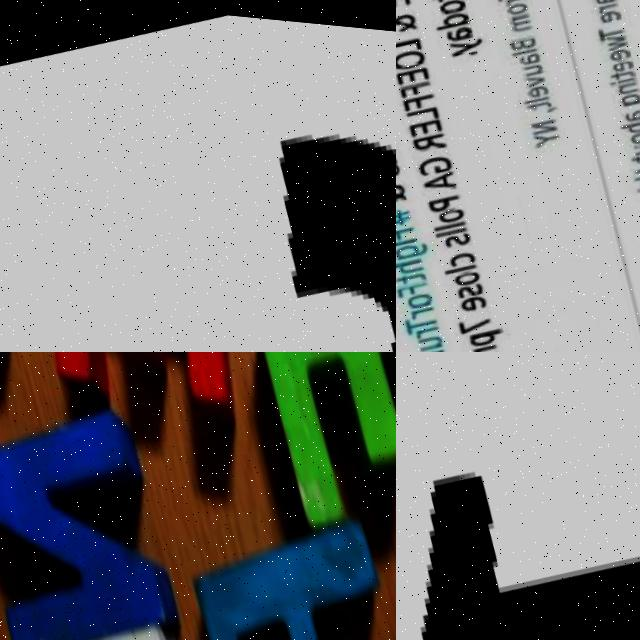1: (396, 352, 640, 640)
7: (465, 303, 500, 328)
A: (427, 159, 463, 188), (447, 13, 479, 38), (520, 39, 545, 57), (627, 95, 640, 111)
B: (512, 24, 539, 43), (624, 106, 640, 124)
C: (451, 239, 486, 262)
D: (435, 0, 474, 24)
E: (0, 352, 280, 473), (411, 107, 450, 134), (398, 55, 435, 82), (466, 282, 496, 306), (529, 72, 554, 90), (610, 34, 635, 52), (615, 44, 637, 62), (602, 0, 624, 13)
F: (231, 352, 396, 534), (406, 82, 441, 106), (403, 70, 438, 93), (401, 270, 436, 292), (396, 216, 423, 238)
G: (420, 141, 461, 171), (398, 230, 437, 257), (622, 77, 640, 95)
H: (396, 246, 430, 271)
I: (396, 226, 422, 241), (613, 62, 639, 75)
J: (0, 45, 396, 352)
L: (409, 94, 446, 121), (396, 25, 427, 52), (438, 214, 476, 232), (439, 208, 475, 227), (449, 251, 486, 269), (527, 83, 554, 96), (516, 37, 540, 49)
M: (510, 1, 537, 24), (477, 332, 508, 352), (426, 338, 458, 352)
N: (0, 378, 204, 640), (534, 106, 562, 127), (618, 68, 640, 84)
O: (396, 38, 432, 65), (412, 281, 440, 304), (443, 194, 471, 217), (459, 257, 487, 280), (440, 0, 468, 7), (507, 0, 532, 7), (634, 116, 640, 132)
P: (174, 494, 396, 640), (475, 314, 512, 341), (432, 183, 468, 207)
R: (416, 122, 454, 148), (416, 296, 442, 313), (422, 316, 447, 333), (599, 0, 620, 3)
S: (448, 221, 479, 241), (463, 272, 490, 291), (396, 156, 405, 173)
T: (409, 302, 447, 329), (399, 259, 434, 282), (601, 10, 629, 33), (613, 55, 639, 72), (530, 88, 556, 102), (396, 144, 404, 165), (634, 137, 640, 154)
U: (423, 322, 451, 345), (524, 52, 548, 68), (635, 128, 640, 143)
V: (527, 61, 550, 79)
W: (606, 18, 633, 41)
Y: (451, 25, 490, 52), (537, 117, 565, 138)
